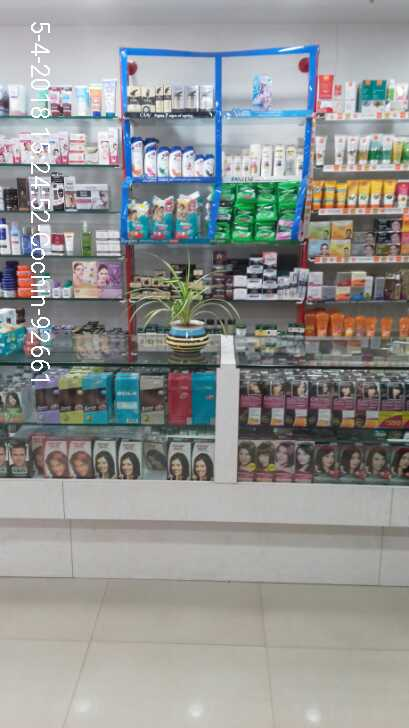venus: (255, 74, 271, 106)
